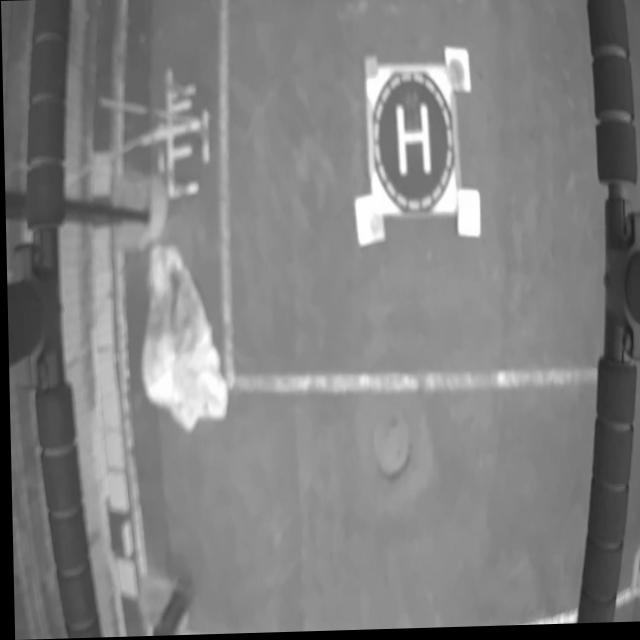Helipad: (392, 102, 429, 180)
